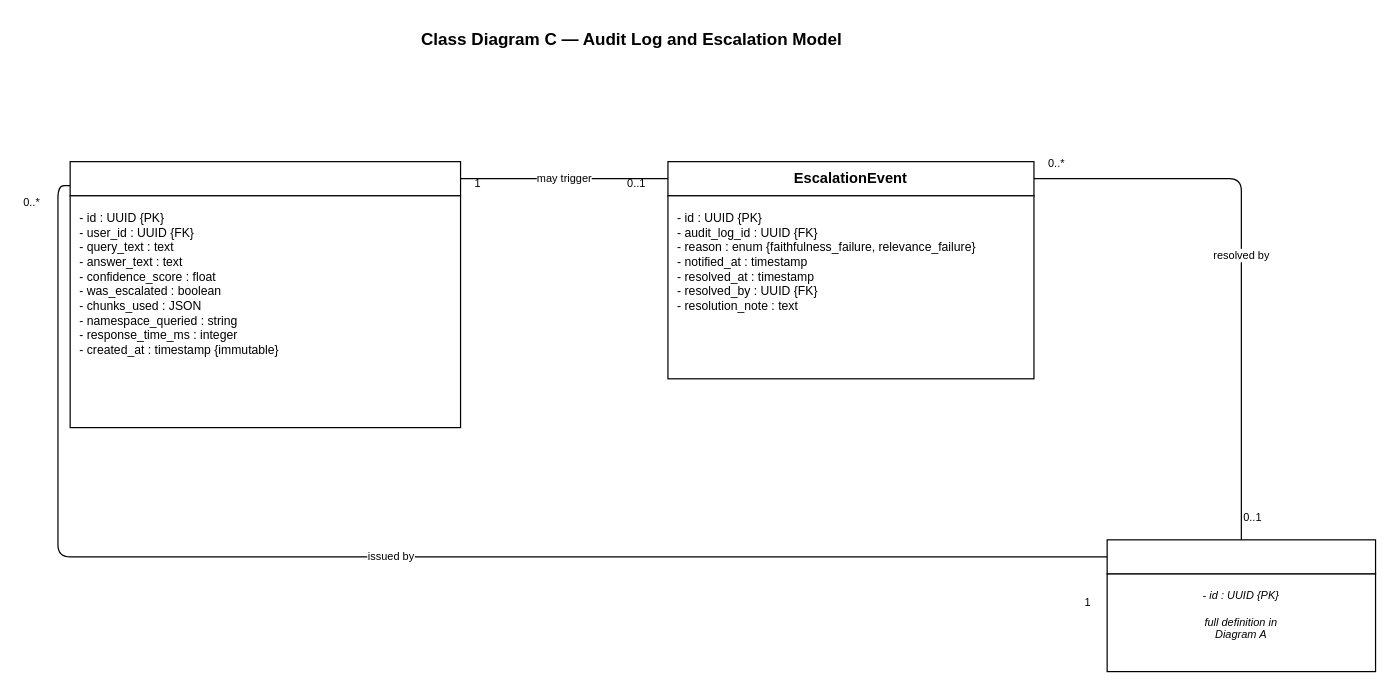
This 1397x693 diagram has some shape labels left out. Each missing label, with the box of its shape:
AuditLog («append-only»): (69, 160, 461, 196)
User (reference): (1106, 539, 1376, 574)
